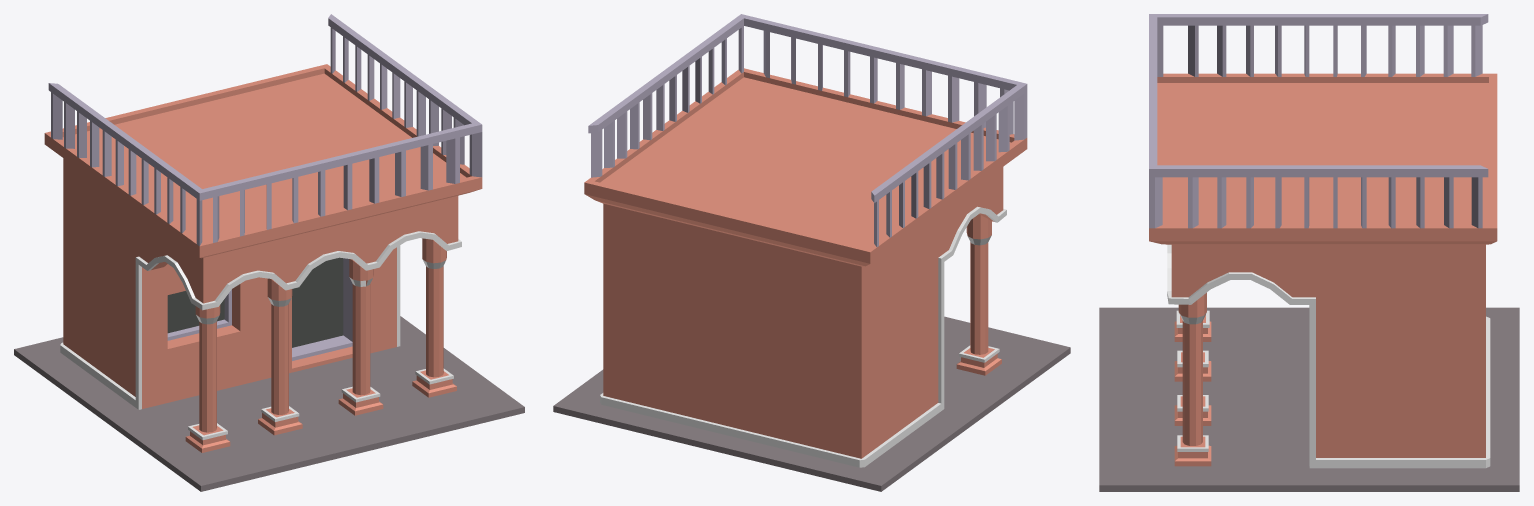
File: building_1x1_4_g.glb
The picture shows the model from 3 angles, left to right: view 1: azimuth 30°, elevation 25°; view 2: azimuth 150°, elevation 25°; view 3: azimuth 270°, elevation 25°; orthographic projection. The views are drawn at different scales.
Visible parts, largest first — view 1: Building; view 2: Building; view 3: Building.
Boxes of the visible parts, x1,y1,x2,y2 form: Building: [14, 14, 524, 491]; Building: [553, 14, 1070, 491]; Building: [1099, 14, 1519, 491].
Bounding box in the file's own units: 2 × 1.64 × 2.
